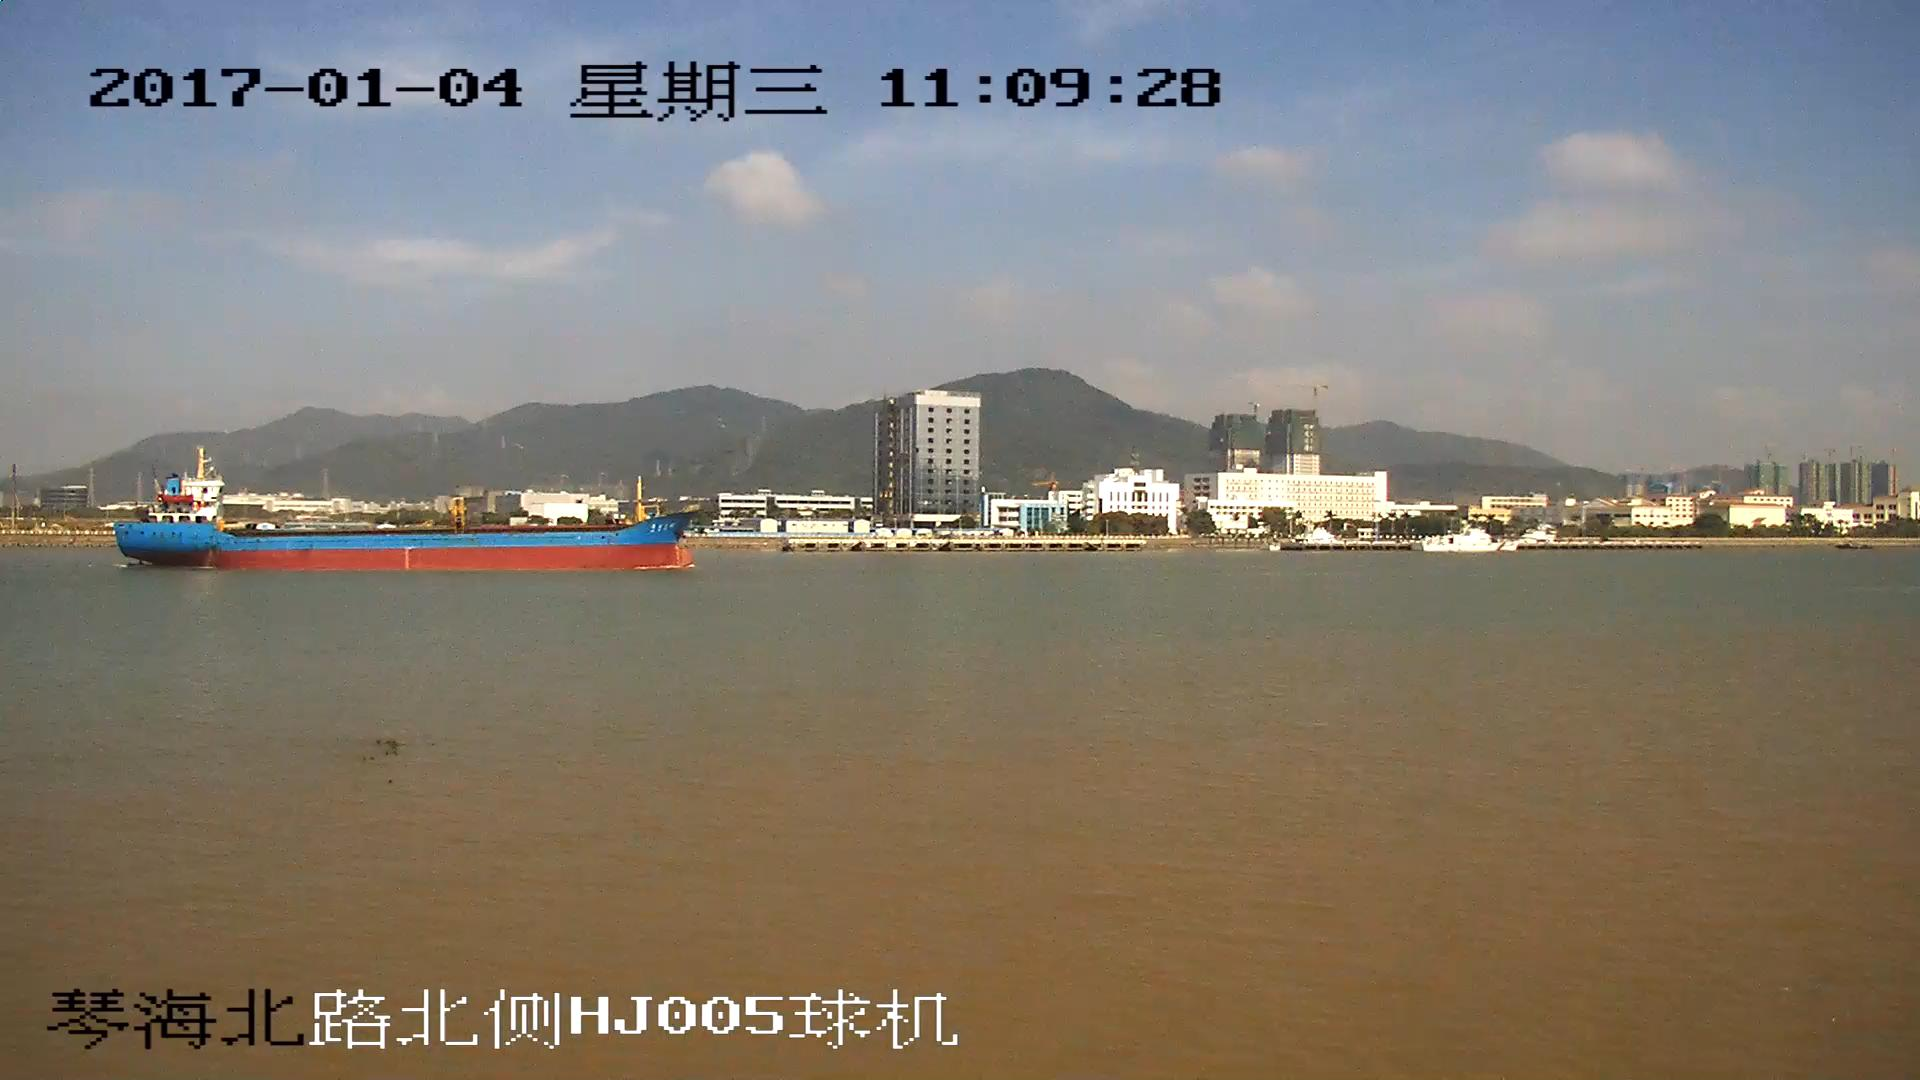general cargo ship: (117, 449, 703, 574)
